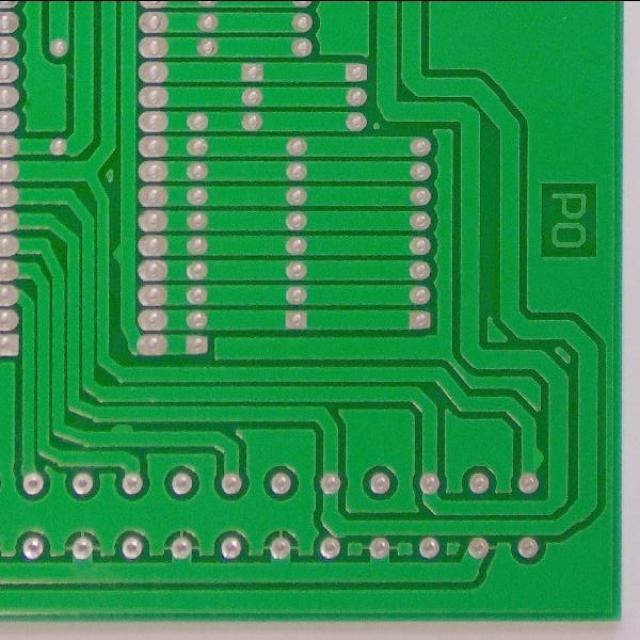Spur: (102, 420, 141, 451), (109, 238, 140, 274), (516, 442, 547, 474)
